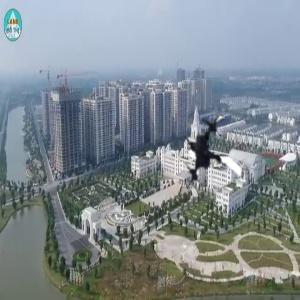drone: (169, 117, 259, 207)
